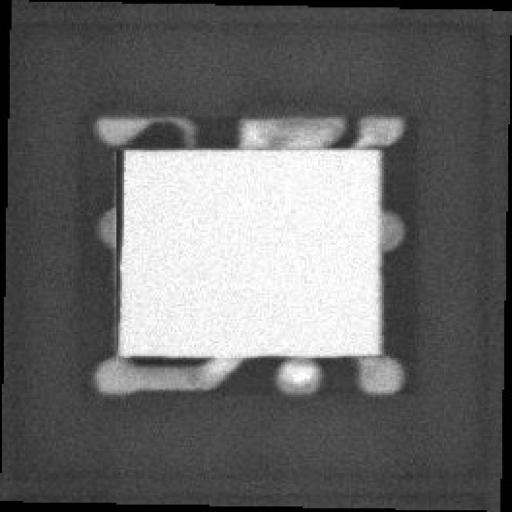DIE_BROKEN: (107, 141, 124, 343)
